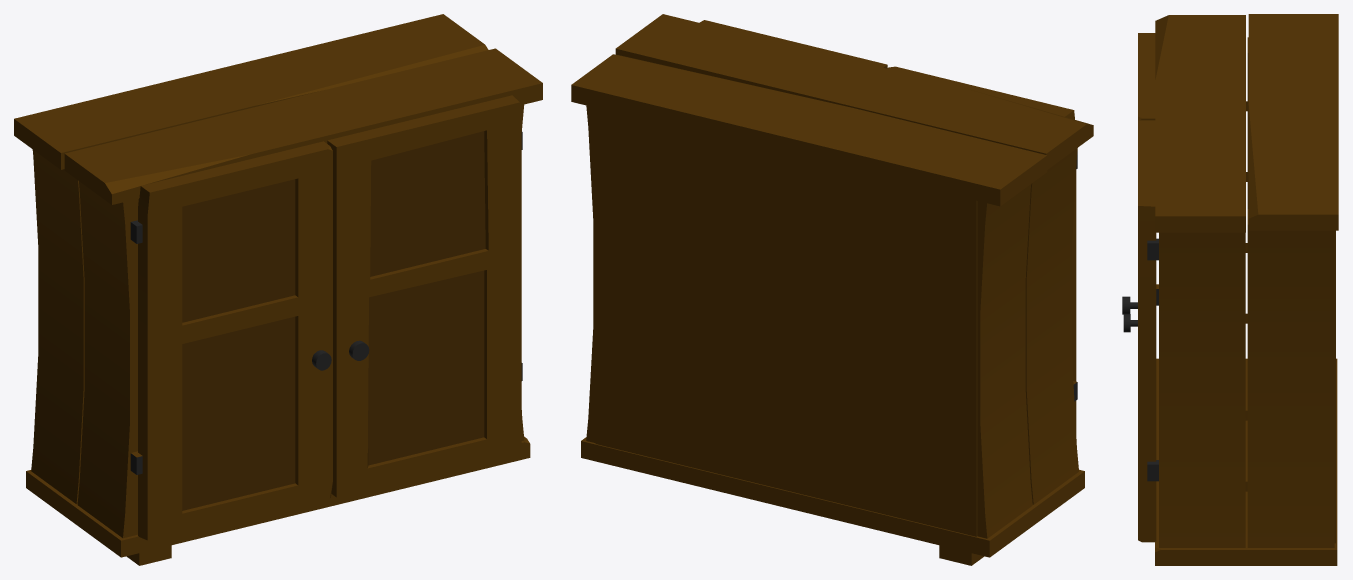
The model's file is SmallCabinetBroken.fbx.
The picture shows the model from 3 angles, left to right: view 1: azimuth 30°, elevation 25°; view 2: azimuth 150°, elevation 25°; view 3: azimuth 270°, elevation 25°; orthographic projection. The views are drawn at different scales.
Visible parts, largest first — view 1: Furniture_Cabinet.001, Furniture_Door2.001, Furniture_Door1.001; view 2: Furniture_Cabinet.001, Furniture_Door2.001, Furniture_Door1.001; view 3: Furniture_Cabinet.001, Furniture_Door1.001, Furniture_Door2.001.
Boxes of the visible parts, left/top/right/bottom form: Furniture_Cabinet.001: left=14, top=14, right=542, bottom=565; Furniture_Door2.001: left=138, top=141, right=332, bottom=540; Furniture_Door1.001: left=327, top=95, right=521, bottom=497; Furniture_Cabinet.001: left=571, top=14, right=1093, bottom=565; Furniture_Door2.001: left=887, top=66, right=1076, bottom=432; Furniture_Door1.001: left=699, top=20, right=887, bottom=68; Furniture_Cabinet.001: left=1147, top=14, right=1338, bottom=565; Furniture_Door1.001: left=1123, top=120, right=1156, bottom=542; Furniture_Door2.001: left=1122, top=33, right=1155, bottom=314.
Bounding box in the file's own units: 129 × 110 × 58.08.
